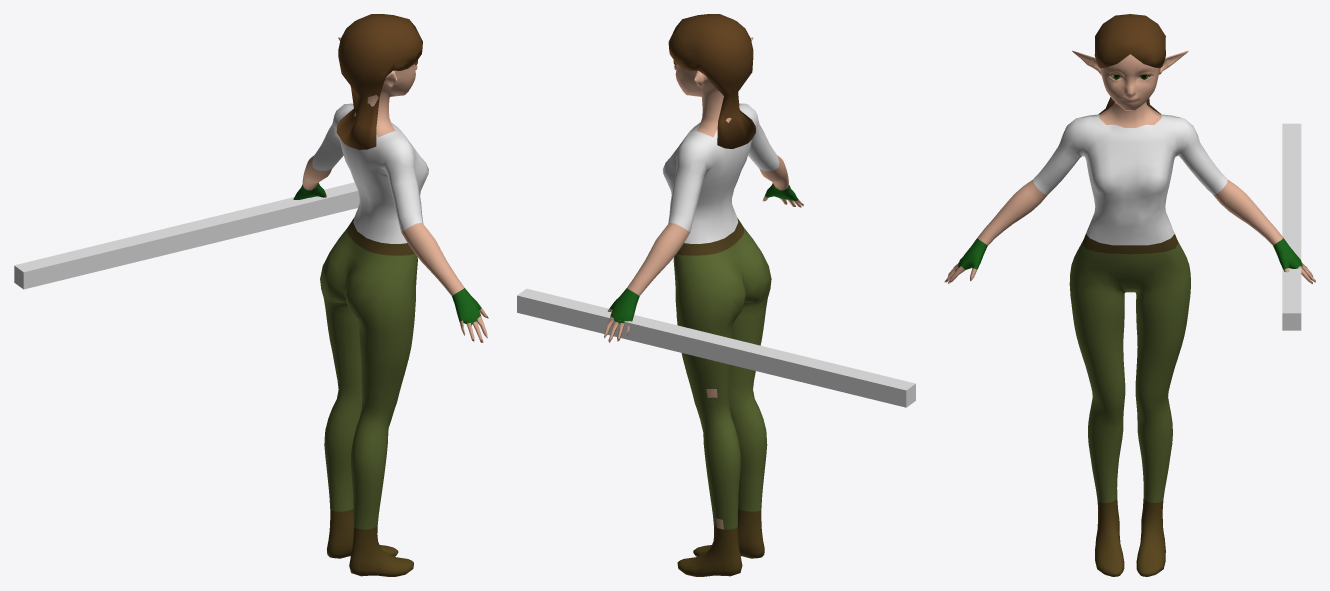
The model's file is settler_elf.glb.
3 views of the same model, side by side, from view 1: azimuth 30°, elevation 25°; view 2: azimuth 150°, elevation 25°; view 3: azimuth 270°, elevation 25° (orthographic).
Visible parts, largest first — view 1: body_LP_Plane.008, Cube, Sphere.002_Sphere.001; view 2: body_LP_Plane.008, Cube, Sphere.002_Sphere.001; view 3: body_LP_Plane.008, Cube, Sphere.002_Sphere.001.
Part boxes in pixels (x1,y1,x2,y2): body_LP_Plane.008: (293, 37, 488, 576); Cube: (14, 182, 359, 289); Sphere.002_Sphere.001: (336, 14, 422, 149); body_LP_Plane.008: (604, 37, 803, 576); Cube: (517, 288, 915, 407); Sphere.002_Sphere.001: (668, 14, 755, 148); body_LP_Plane.008: (944, 50, 1315, 576); Cube: (1282, 123, 1301, 330); Sphere.002_Sphere.001: (1094, 14, 1165, 114).
Size of the model in its own units: 6 by 8.09 by 4.97.
8 materials, 2 textured.
